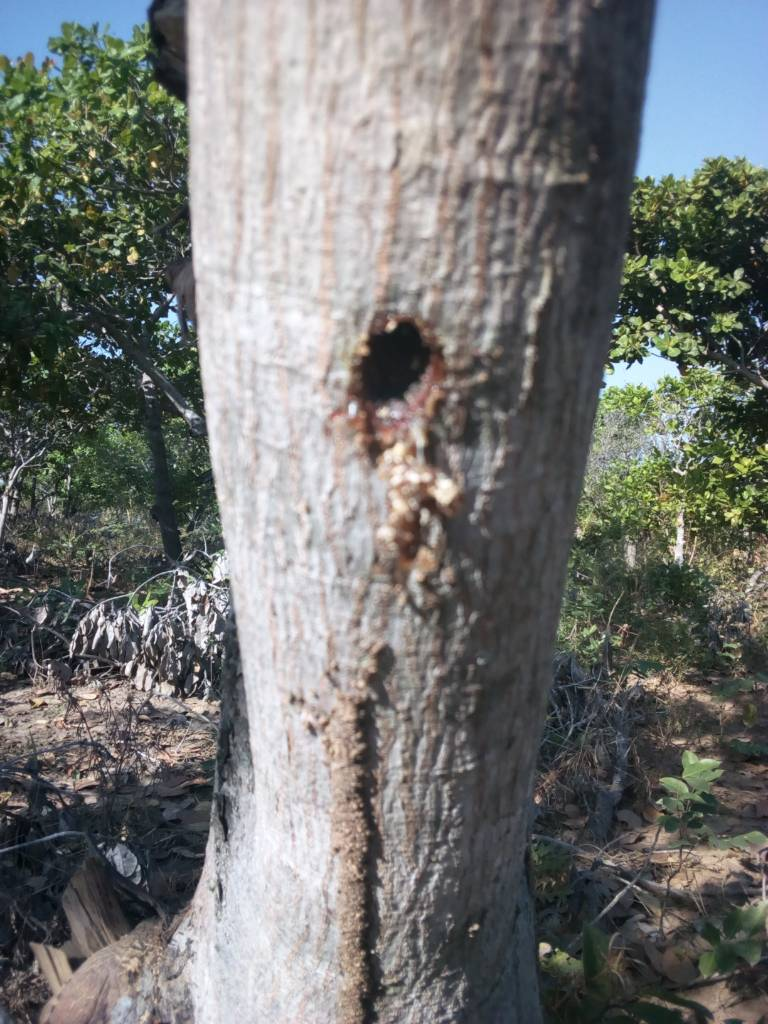Apate terebrans: (331, 287, 481, 429)
